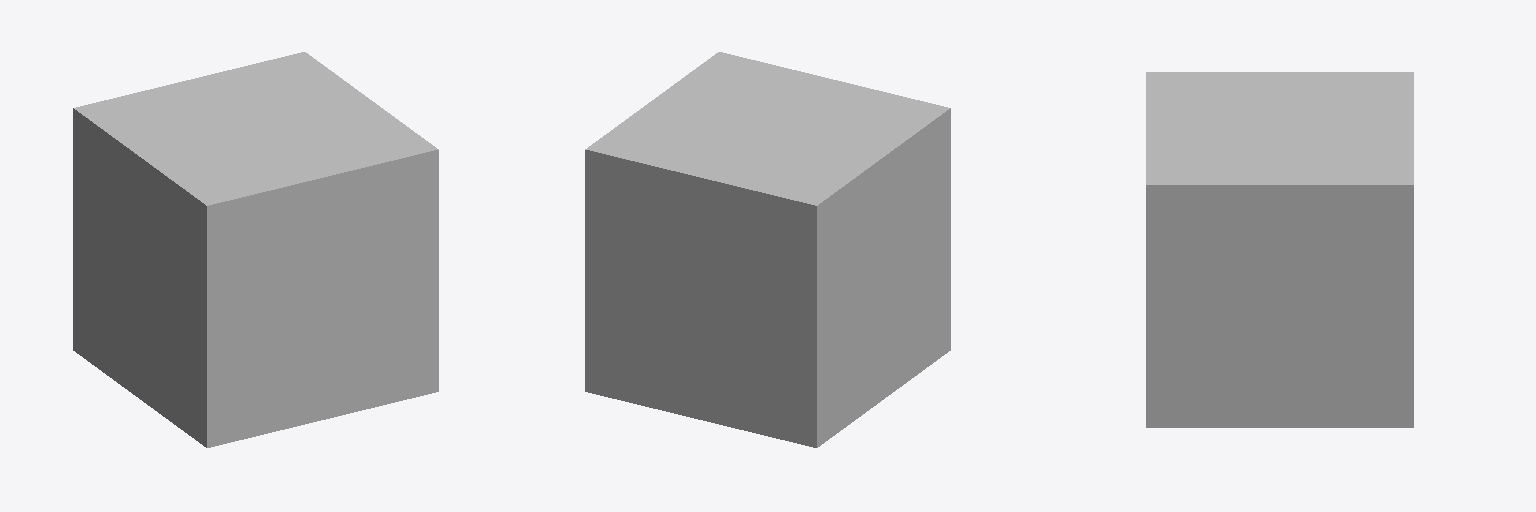
File: normal_3.obj
3 renders of one model, left to right at view 1: azimuth 30°, elevation 25°; view 2: azimuth 150°, elevation 25°; view 3: azimuth 270°, elevation 25°, orthographic.
Parts seen in each view (by area): view 1: Cube.001_Cube.000; view 2: Cube.001_Cube.000; view 3: Cube.001_Cube.000.
Boxes of the visible parts, <box> form: Cube.001_Cube.000: <box>73,52,438,447</box>; Cube.001_Cube.000: <box>585,52,950,447</box>; Cube.001_Cube.000: <box>1146,72,1413,427</box>.
Size of the model in its own units: 1 by 1.05 by 1.